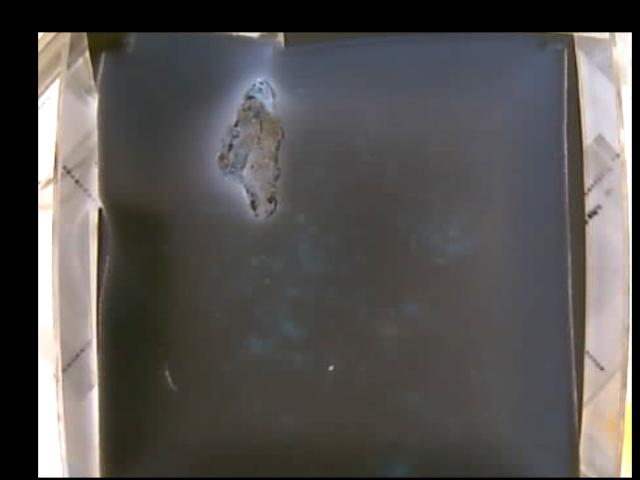Brisk: (216, 78, 280, 220)
